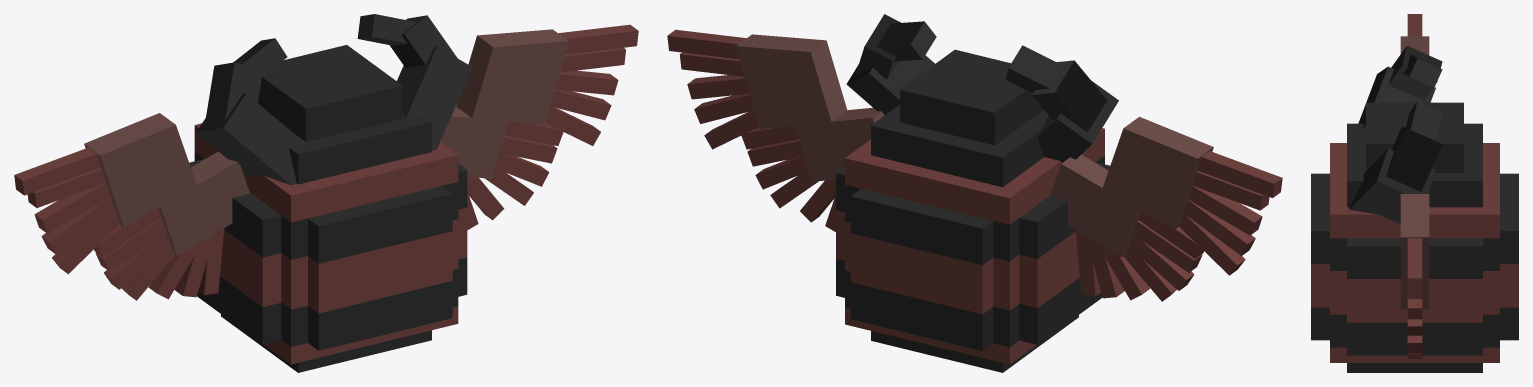
The model's file is 48.Lava_Dragon.fbx.
The picture shows the model from 3 angles, left to right: view 1: azimuth 30°, elevation 25°; view 2: azimuth 150°, elevation 25°; view 3: azimuth 270°, elevation 25°; orthographic projection. The views are drawn at different scales.
Visible parts, largest first — view 1: Lava_Dragon; view 2: Lava_Dragon; view 3: Lava_Dragon.
Part boxes in pixels (box(x1,y1,x2,y2)): Lava_Dragon: box(14, 14, 638, 372); Lava_Dragon: box(667, 14, 1282, 372); Lava_Dragon: box(1311, 14, 1518, 372).
Size of the model in its own units: 8.69 by 4.06 by 2.89.
